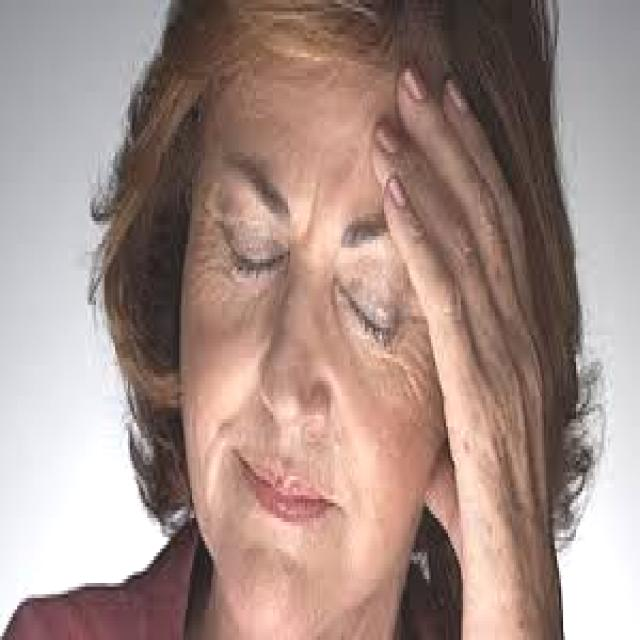normal_face: (171, 5, 495, 610)
